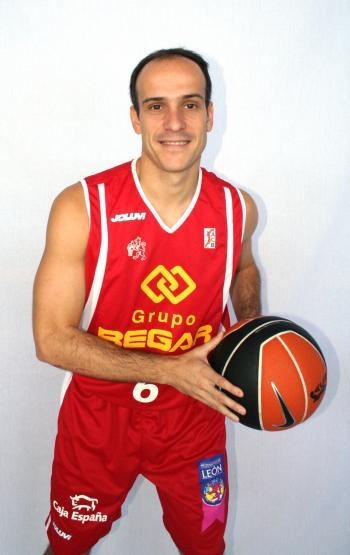basketball: (210, 316, 329, 431)
